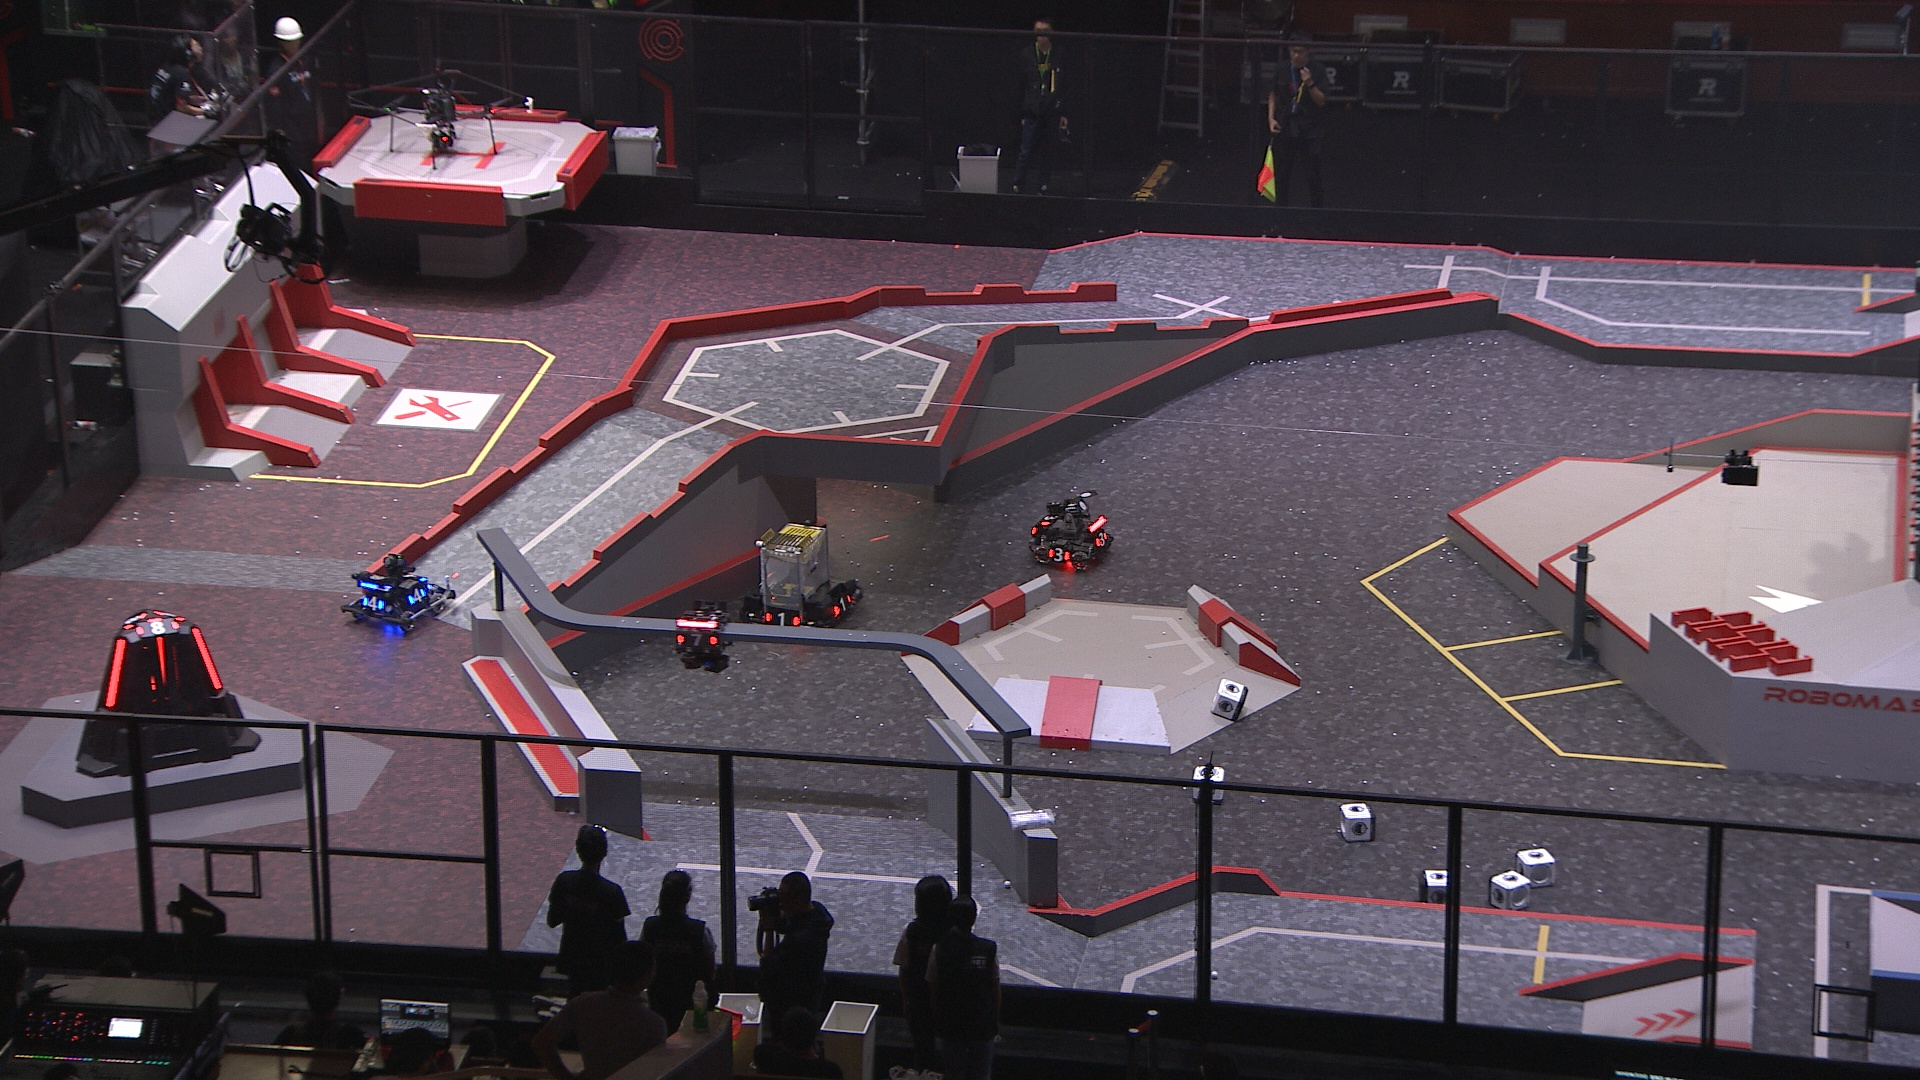armor: (190, 626, 224, 694), (102, 636, 131, 711), (135, 617, 182, 636), (154, 636, 171, 684), (675, 629, 717, 647), (760, 611, 798, 629), (828, 591, 852, 618), (357, 593, 386, 615), (1044, 543, 1072, 564), (120, 609, 142, 633), (1040, 509, 1060, 531), (404, 588, 429, 605), (1091, 529, 1110, 549), (161, 608, 187, 622), (404, 571, 429, 584)
base: (69, 603, 262, 781)
car: (737, 514, 864, 637), (340, 549, 460, 640), (1027, 489, 1120, 572)
watcher: (671, 599, 738, 675)
